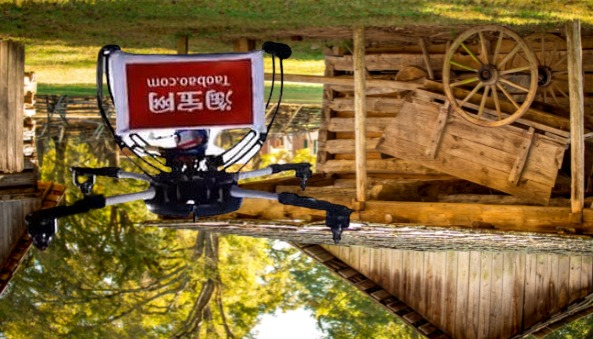drone: (24, 42, 356, 251)
